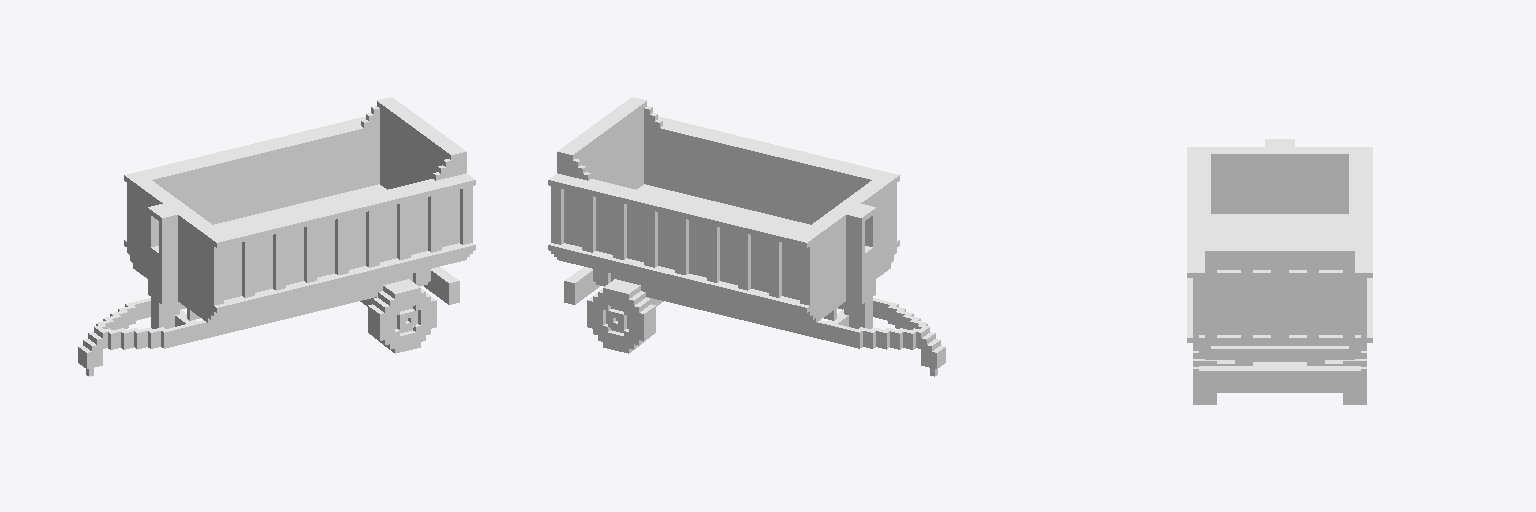
File: Trailer_Wheat_Level_1.obj
3 renders of one model, left to right at view 1: azimuth 30°, elevation 25°; view 2: azimuth 150°, elevation 25°; view 3: azimuth 270°, elevation 25°, orthographic.
Visible parts, largest first — view 1: Trailer_Wheat_Level_1; view 2: Trailer_Wheat_Level_1; view 3: Trailer_Wheat_Level_1.
Part boxes in pixels (x1,y1,x2,y2): Trailer_Wheat_Level_1: (78, 97, 475, 376); Trailer_Wheat_Level_1: (548, 97, 945, 376); Trailer_Wheat_Level_1: (1187, 139, 1372, 404).
Size of the model in its own units: 67 by 33 by 31.